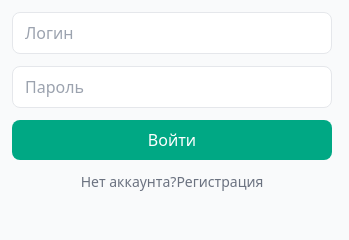
Test: AuthForm › shows an error and does not redirect on login failure
Type "alice" into the field with placeholder "Логин".
click(172, 33); type("alice")  # box [12,12,332,54]
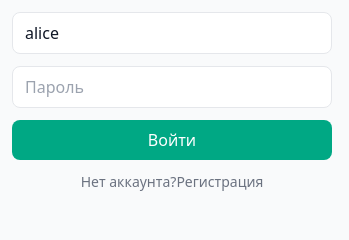
Type "wrong-pass" into the password field with placeholder "Пароль".
click(172, 87); type("wrong-pass")  # box [12,66,332,108]
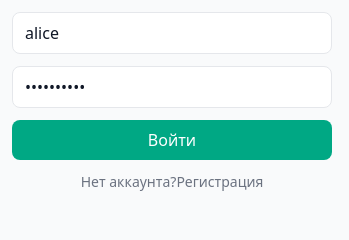
Click the button "Войти".
click(172, 140)  # box [12,120,332,160]
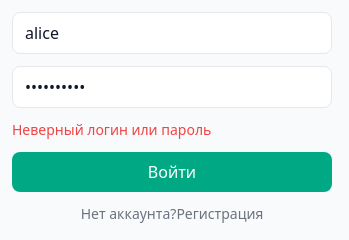
Check: the text "Неверный логин или пароль" is shown, box [12,120,211,139]
